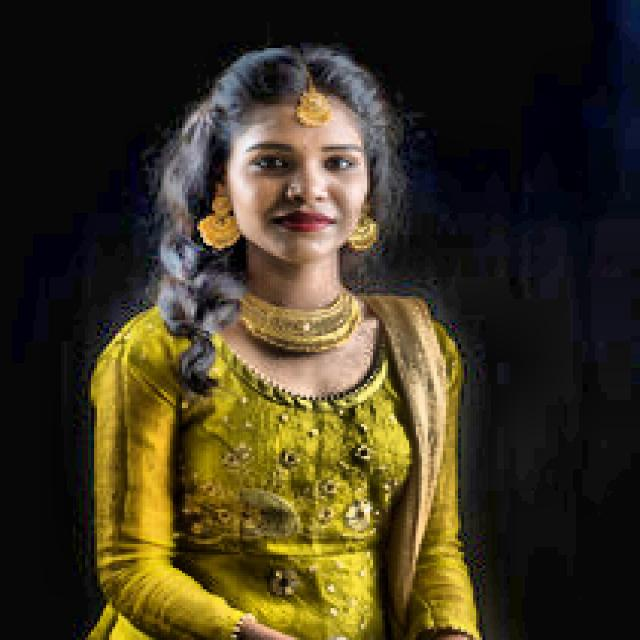Human: (100, 21, 510, 636)
